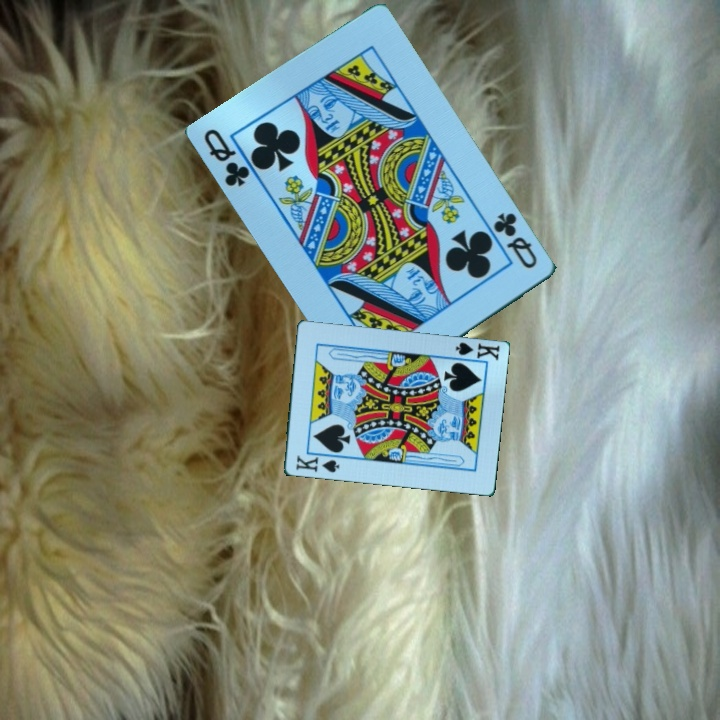Ks: (451, 339, 502, 364), (292, 452, 342, 476)
Qc: (200, 125, 253, 190), (490, 209, 541, 272)
